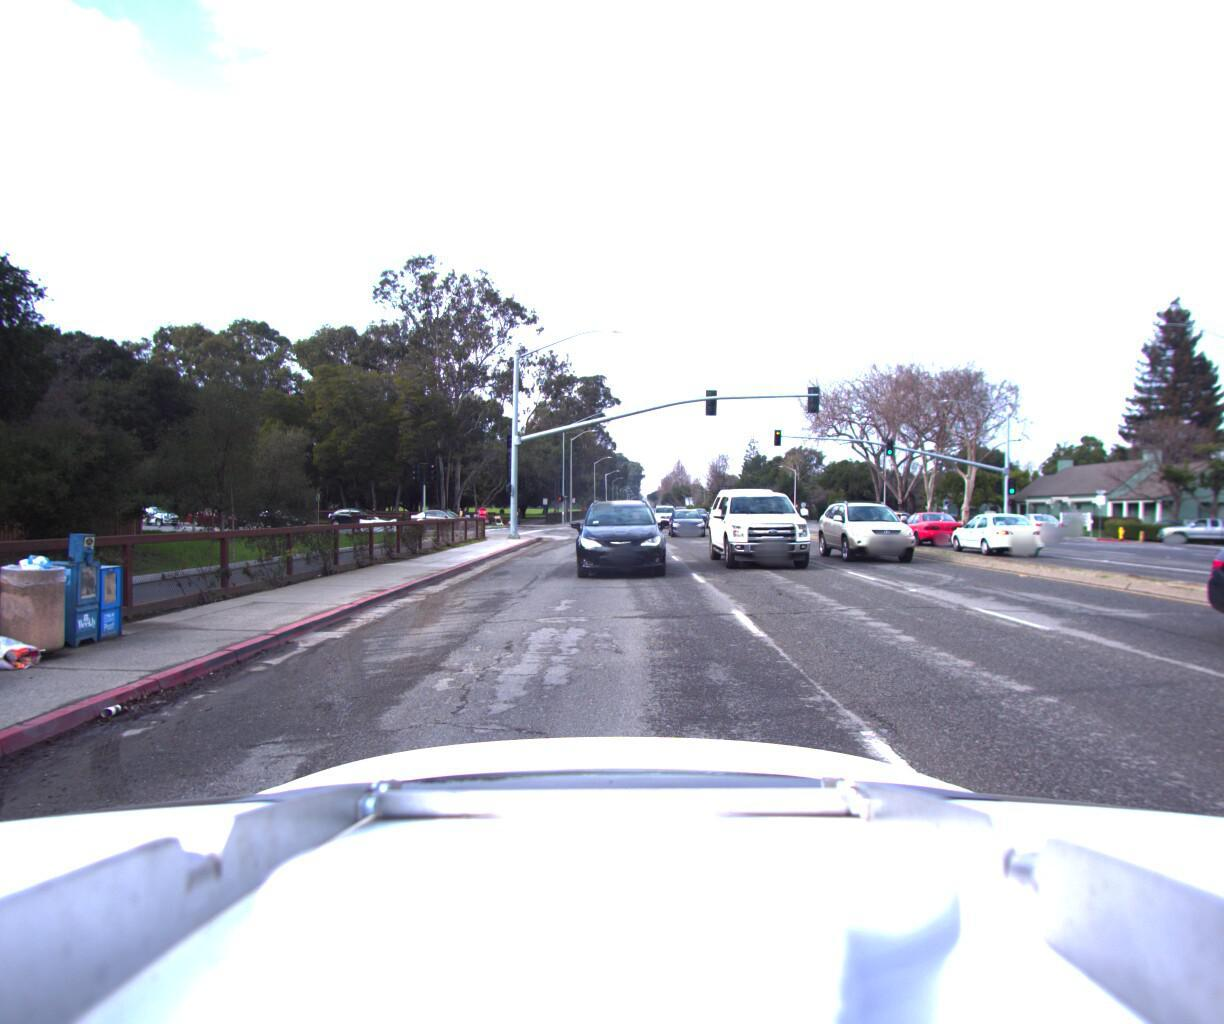car: (708, 474, 828, 576), (821, 492, 943, 564), (573, 495, 663, 580), (944, 507, 1048, 555), (890, 508, 964, 543), (1147, 515, 1224, 544), (666, 498, 710, 535), (997, 511, 1057, 537), (323, 504, 393, 526), (406, 507, 480, 527), (648, 499, 676, 524)
